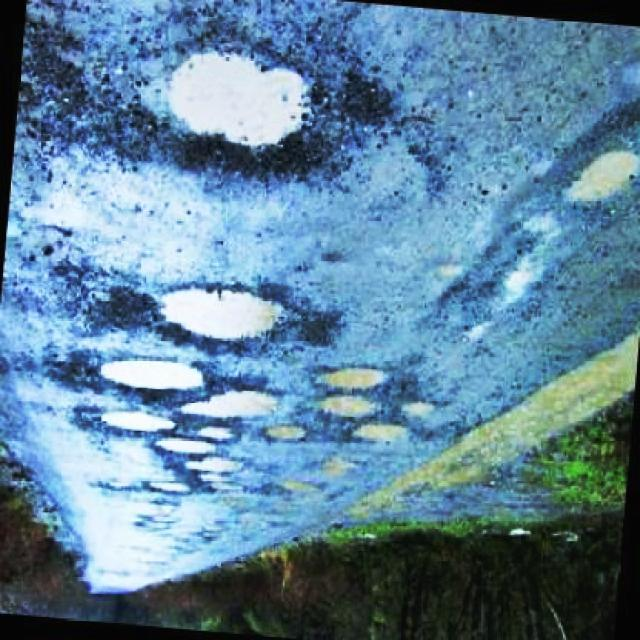pothole: (154, 28, 321, 170), (145, 278, 306, 351), (314, 358, 411, 422), (90, 351, 204, 402), (560, 144, 640, 208), (346, 397, 452, 445), (186, 380, 289, 422), (151, 426, 249, 463), (89, 402, 183, 436), (266, 477, 334, 498), (262, 420, 310, 446), (145, 477, 197, 500)
